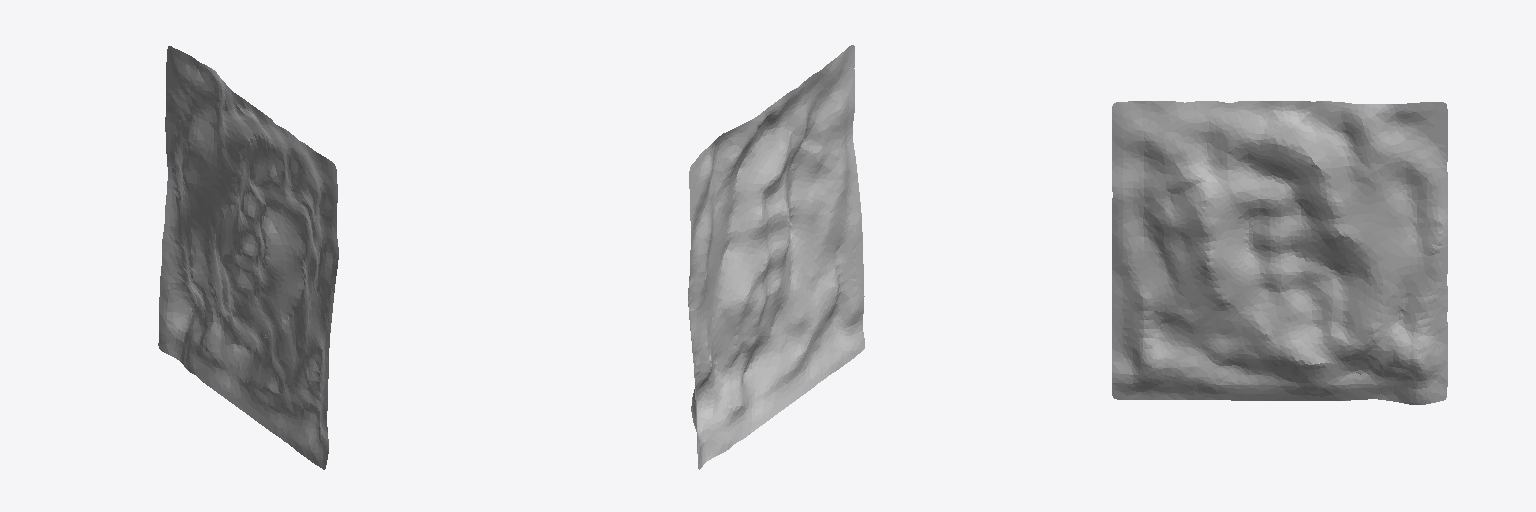
The model's file is curvedMesh.obj.
3 renders of one model, left to right at view 1: azimuth 30°, elevation 25°; view 2: azimuth 150°, elevation 25°; view 3: azimuth 270°, elevation 25°, orthographic.
Parts seen in each view (by area): view 1: Plane; view 2: Plane; view 3: Plane.
Boxes of the visible parts, x1,y1,x2,y2 form: Plane: [158, 46, 338, 469]; Plane: [688, 45, 864, 469]; Plane: [1112, 101, 1447, 404].
Bounding box in the file's own units: 0.1961 × 2.01 × 2.